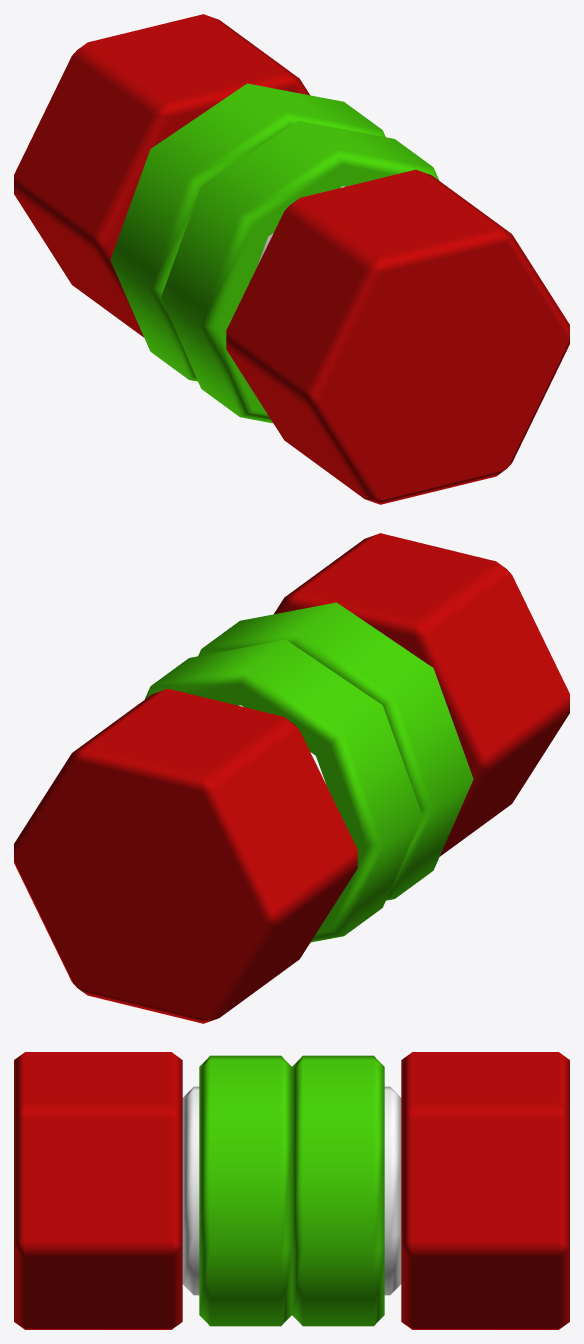
Rendered from Pipe01Fitting02d.fbx.
The picture shows the model from 3 angles, top to bottom: view 1: azimuth 30°, elevation 25°; view 2: azimuth 150°, elevation 25°; view 3: azimuth 270°, elevation 25°; orthographic projection. The views are drawn at different scales.
Parts seen in each view (by area): view 1: Pipe01Fitting02d; view 2: Pipe01Fitting02d; view 3: Pipe01Fitting02d.
Part boxes in pixels (<box>): Pipe01Fitting02d: <box>14,14,569,504</box>; Pipe01Fitting02d: <box>14,533,569,1023</box>; Pipe01Fitting02d: <box>14,1052,569,1329</box>.
Bounding box in the file's own units: 3.89 × 3.89 × 7.5.
